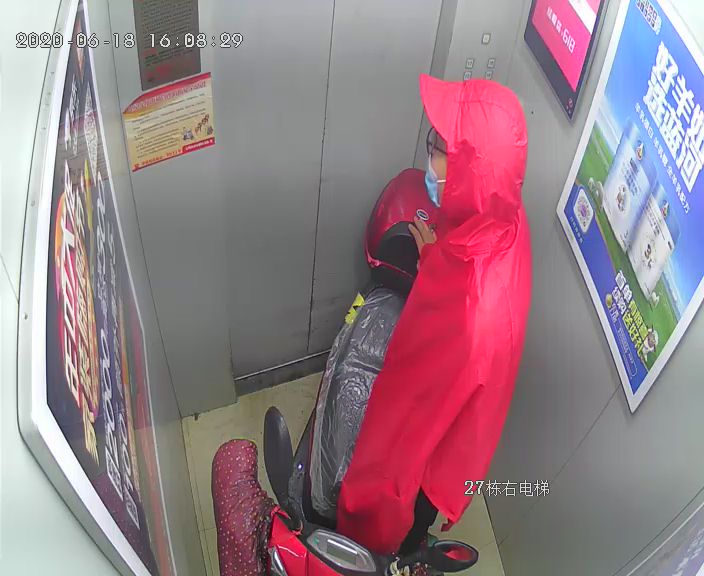Electric-bicycle: (225, 171, 477, 576)
